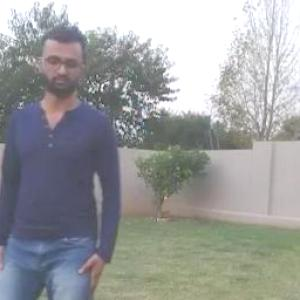follow: (2, 24, 114, 298)
